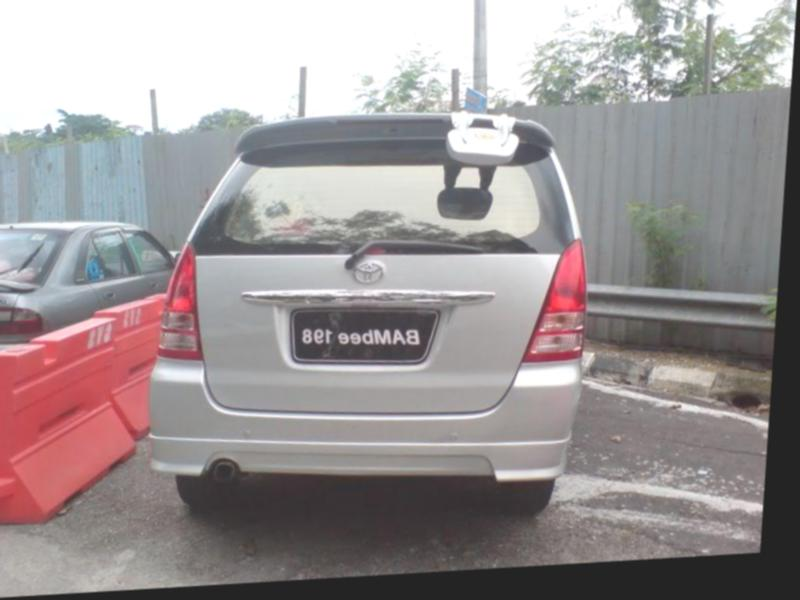License_Plate: (280, 297, 444, 376)
